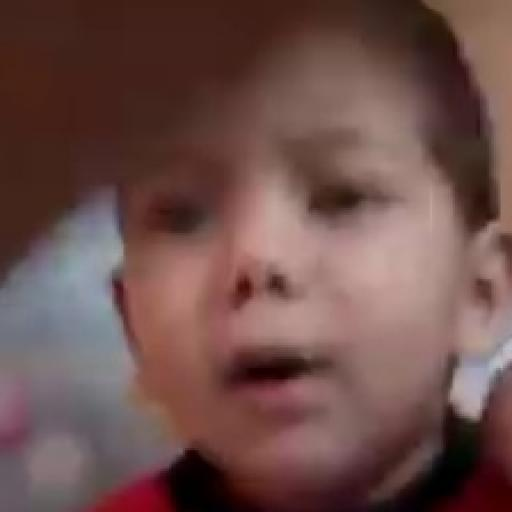Autism: (34, 25, 512, 512)
